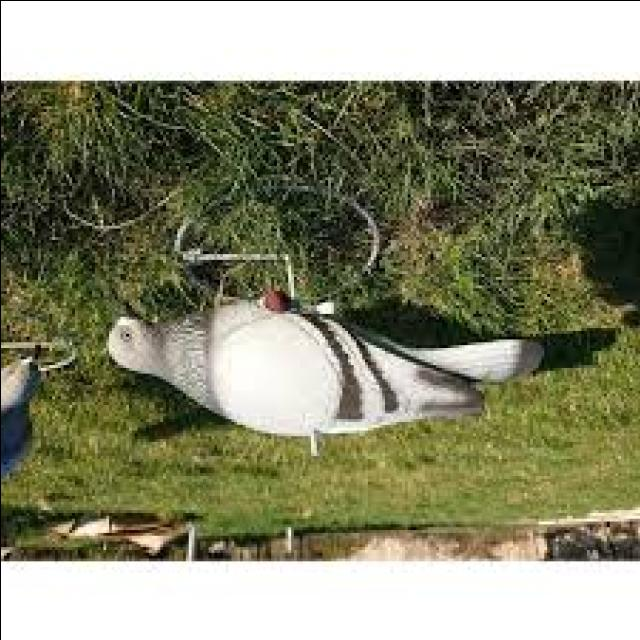pigeon: (77, 232, 555, 478)
